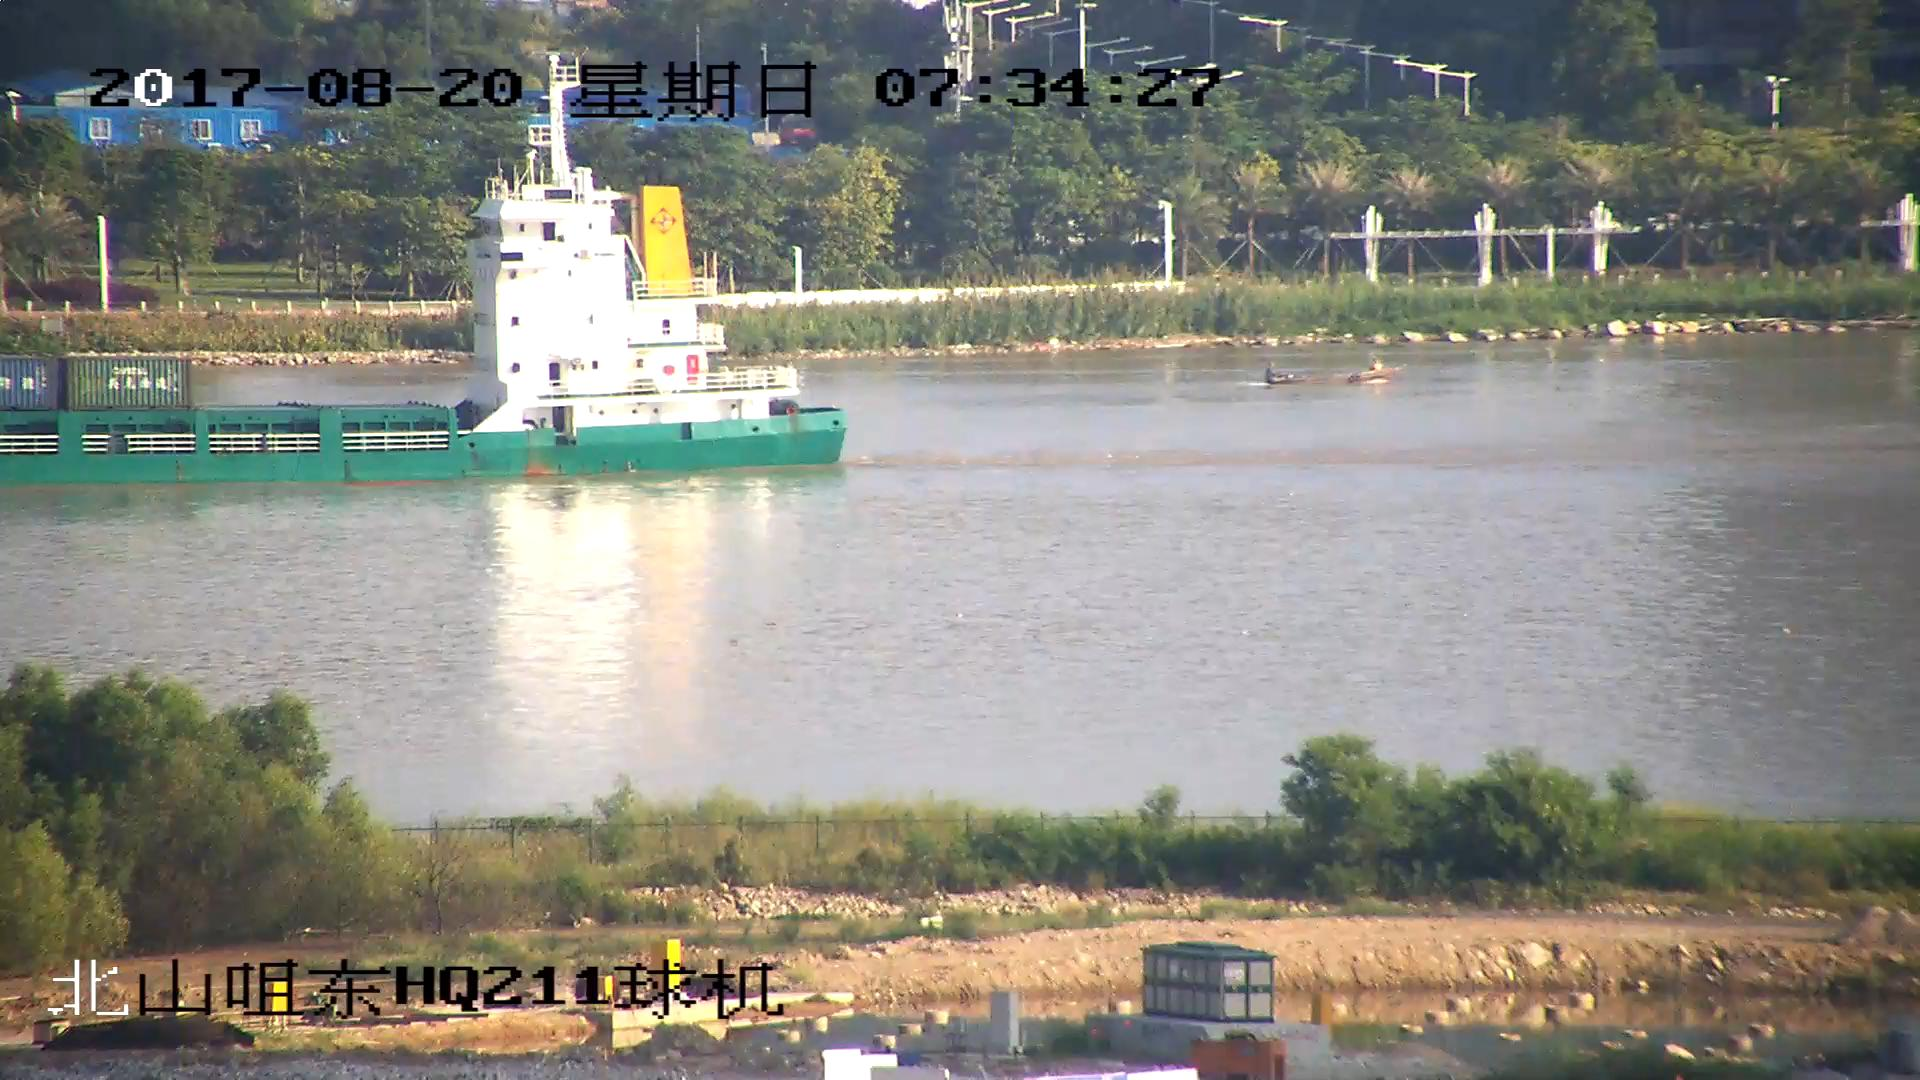fishing boat: (1264, 358, 1399, 389)
general cargo ship: (1, 115, 849, 480)
